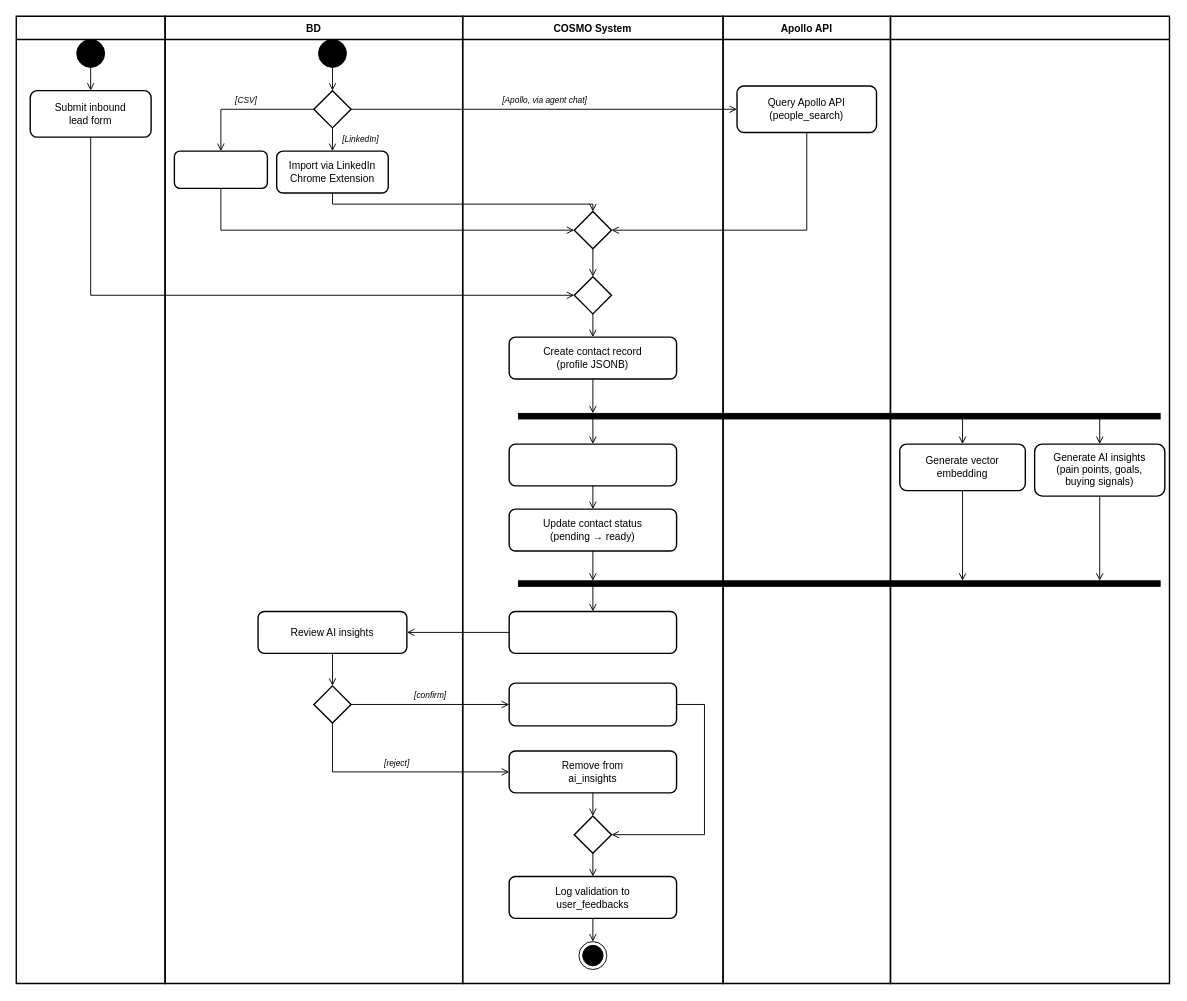
This 1187x1001 diagram has some shape labels left out. Here are the shapes that lost their labels. From the top down, the box of each, then its label:
(173, 150, 268, 189): Upload CSV file
(508, 443, 677, 486): Calculate segment fit scores (ICP)
(15, 15, 165, 984): Prospect
(889, 15, 1170, 984): LLM Service
(508, 610, 677, 654): Display AI insights on contact detail panel
(508, 682, 677, 726): Promote to confirmed_facts
